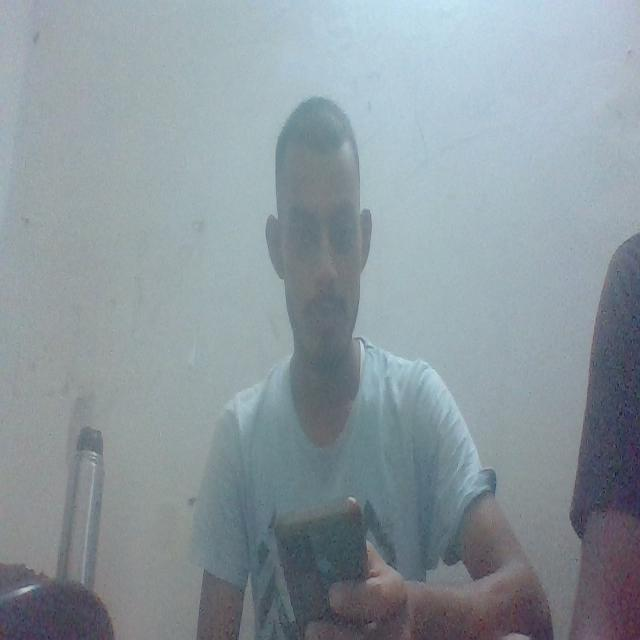Phone: (270, 495, 372, 621)
